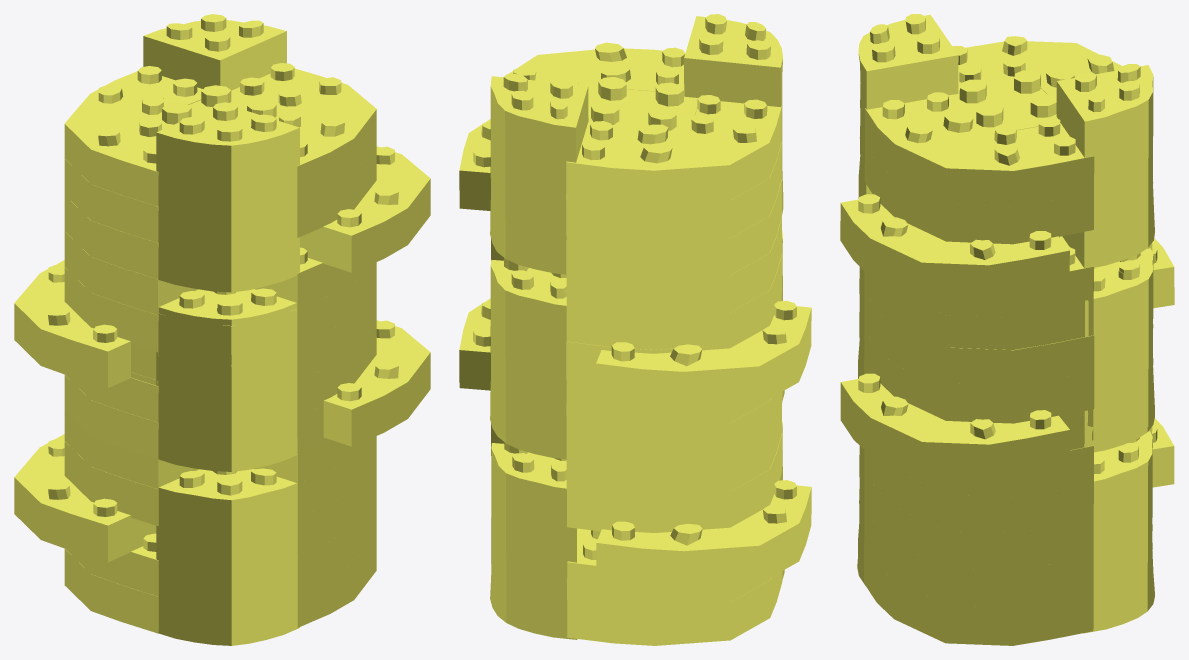
The model's file is MediumLegoTower.fbx.
3 views of the same model, side by side, from view 1: azimuth 30°, elevation 25°; view 2: azimuth 150°, elevation 25°; view 3: azimuth 270°, elevation 25° (orthographic). The views are drawn at different scales.
Visible parts, largest first — view 1: polySurface8063; view 2: polySurface8063; view 3: polySurface8063.
Part boxes in pixels (x1,y1,x2,y2): polySurface8063: (14,14,430,645); polySurface8063: (459,14,811,645); polySurface8063: (840,14,1174,645).
Bounding box in the file's own units: 12.55 × 17.97 × 10.34.
